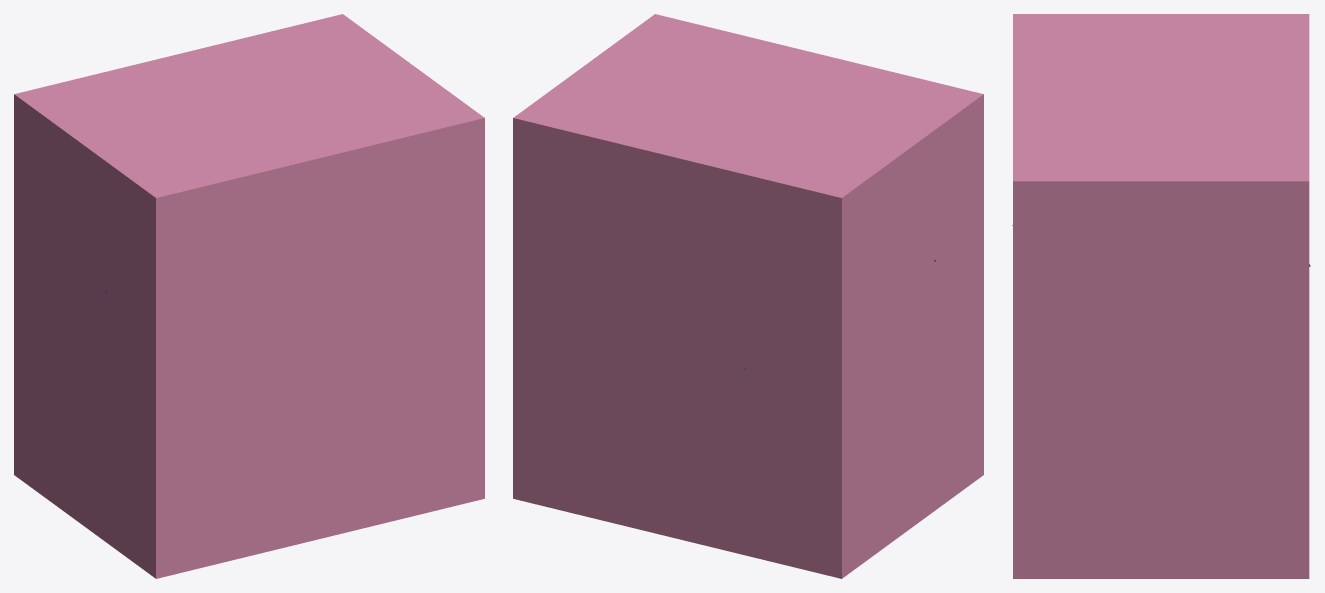
Rendered from tree_beech_overhang_a.dae.
3 views of the same model, side by side, from view 1: azimuth 30°, elevation 25°; view 2: azimuth 150°, elevation 25°; view 3: azimuth 270°, elevation 25° (orthographic). The views are drawn at different scales.
Parts seen in each view (by area): view 1: Untitled; view 2: Untitled; view 3: Untitled.
Part boxes in pixels (box(x1,y1,x2,y2)): Untitled: box(14, 14, 484, 578); Untitled: box(513, 14, 983, 578); Untitled: box(1013, 14, 1309, 578).
Bounding box in the file's own units: 13.02 × 9.76 × 14.43.
